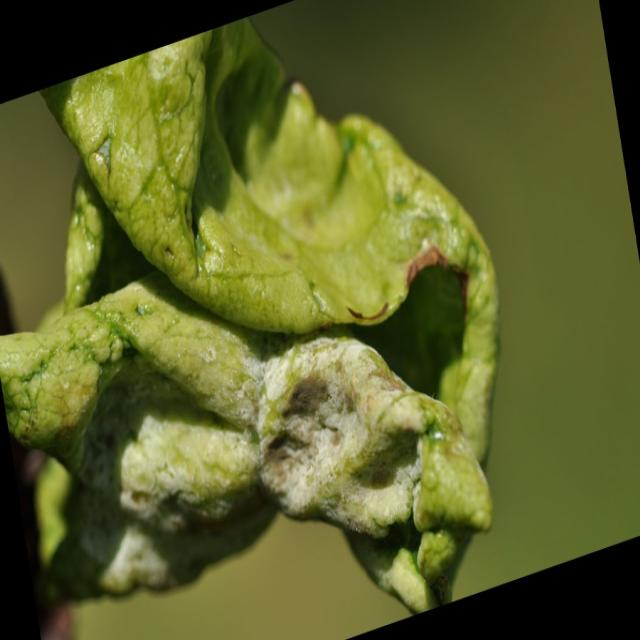peach_leaf_curl: (2, 17, 500, 618)
